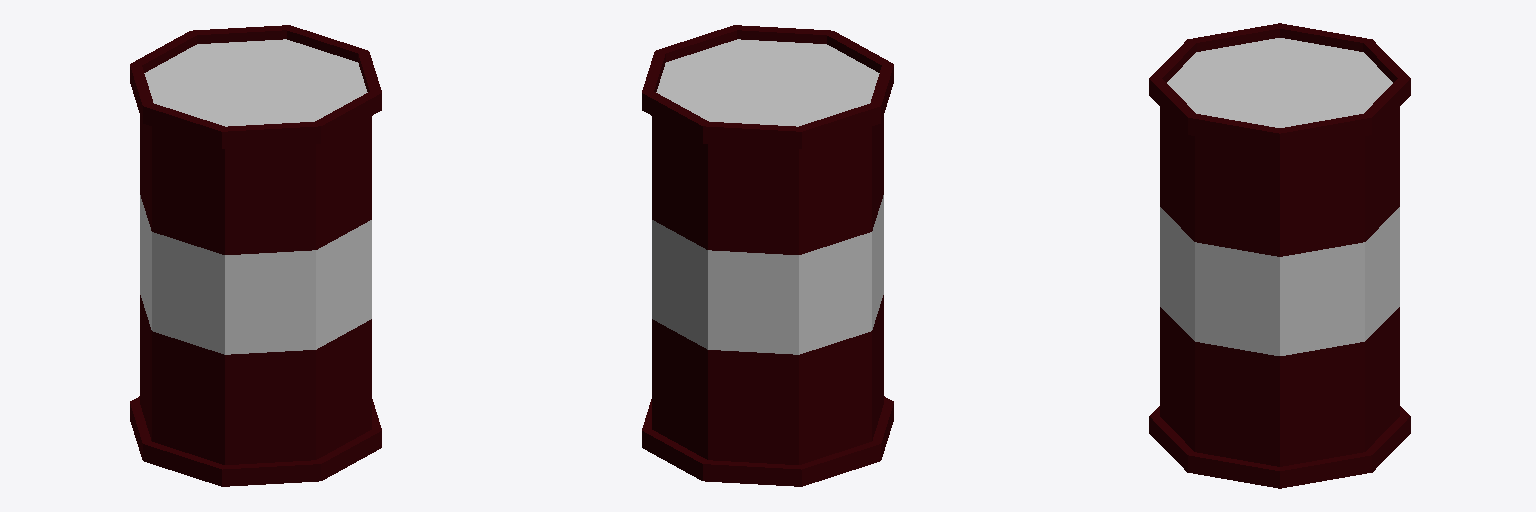
The model's file is Barrel.obj.
3 views of the same model, side by side, from view 1: azimuth 30°, elevation 25°; view 2: azimuth 150°, elevation 25°; view 3: azimuth 270°, elevation 25° (orthographic).
Visible parts, largest first — view 1: Circle; view 2: Circle; view 3: Circle.
Boxes of the visible parts, <box> form: Circle: <box>130,25,381,486</box>; Circle: <box>642,25,893,486</box>; Circle: <box>1149,23,1410,488</box>.
Size of the model in its own units: 0.582 by 0.872 by 0.582.